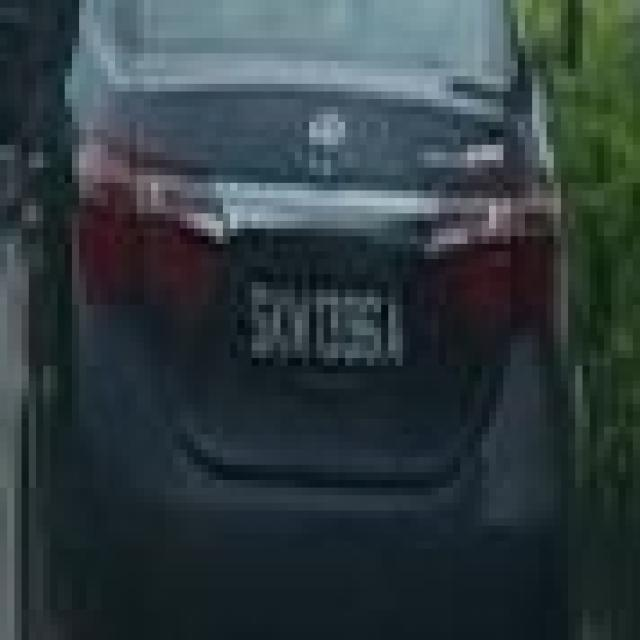1: (314, 286, 326, 364)
3: (321, 287, 346, 368)
6: (359, 284, 382, 366)
9: (338, 282, 364, 370)
A: (383, 286, 405, 370)
K: (266, 279, 290, 363)
S: (246, 279, 272, 368)
V: (288, 283, 310, 362)
